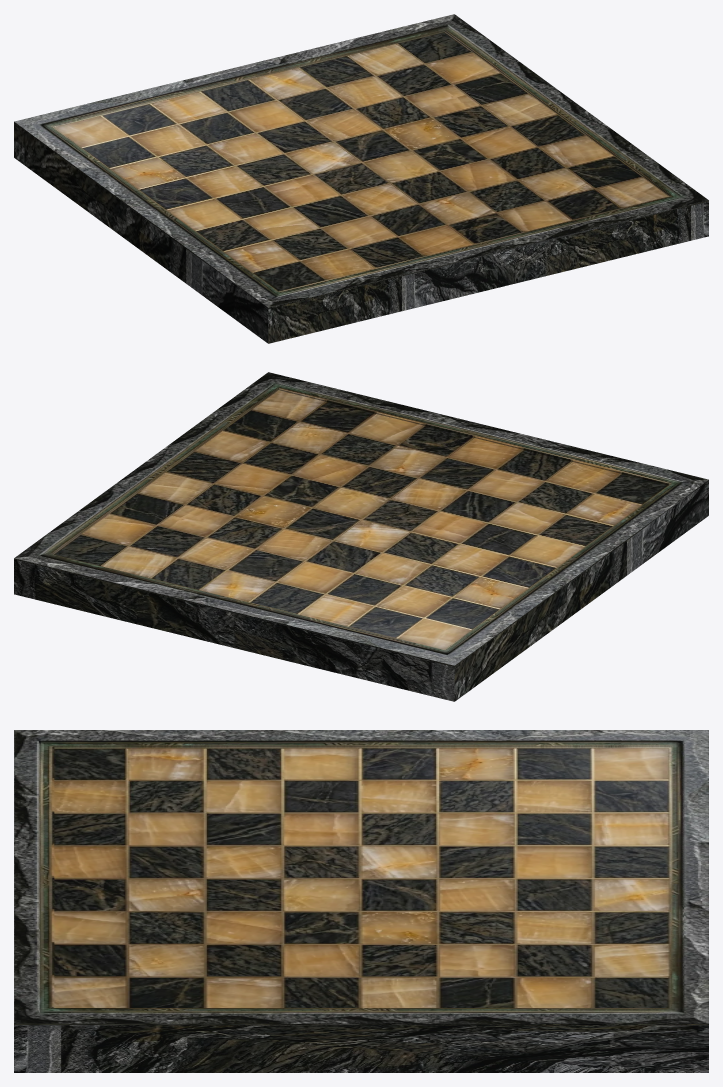
Rendered from onyx-board.glb.
3 views of the same model, one above another, from view 1: azimuth 30°, elevation 25°; view 2: azimuth 150°, elevation 25°; view 3: azimuth 270°, elevation 25° (orthographic). The views are drawn at different scales.
Parts seen in each view (by area): view 1: board; view 2: board; view 3: board.
Part boxes in pixels (bbox=[...]): board: bbox=[14, 14, 708, 343]; board: bbox=[14, 372, 708, 701]; board: bbox=[14, 730, 708, 1072].
Bounding box in the file's own units: 4.03 × 0.3148 × 4.03.
3 materials, 3 textured.
